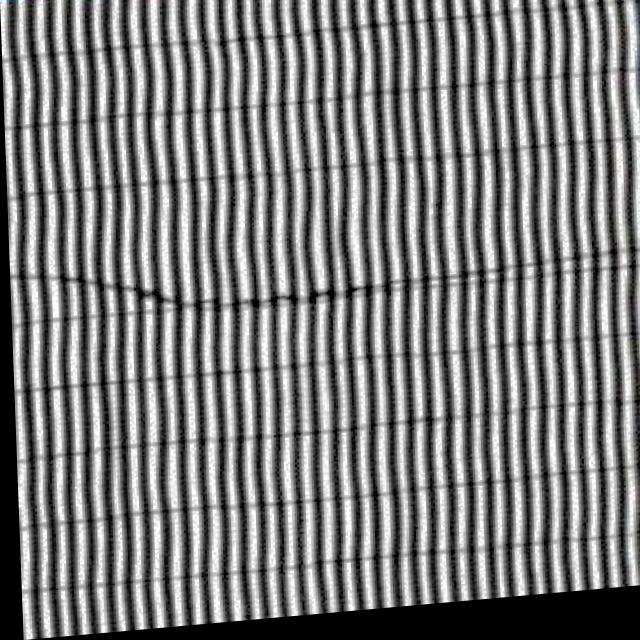Stitch: (23, 229, 444, 354)
